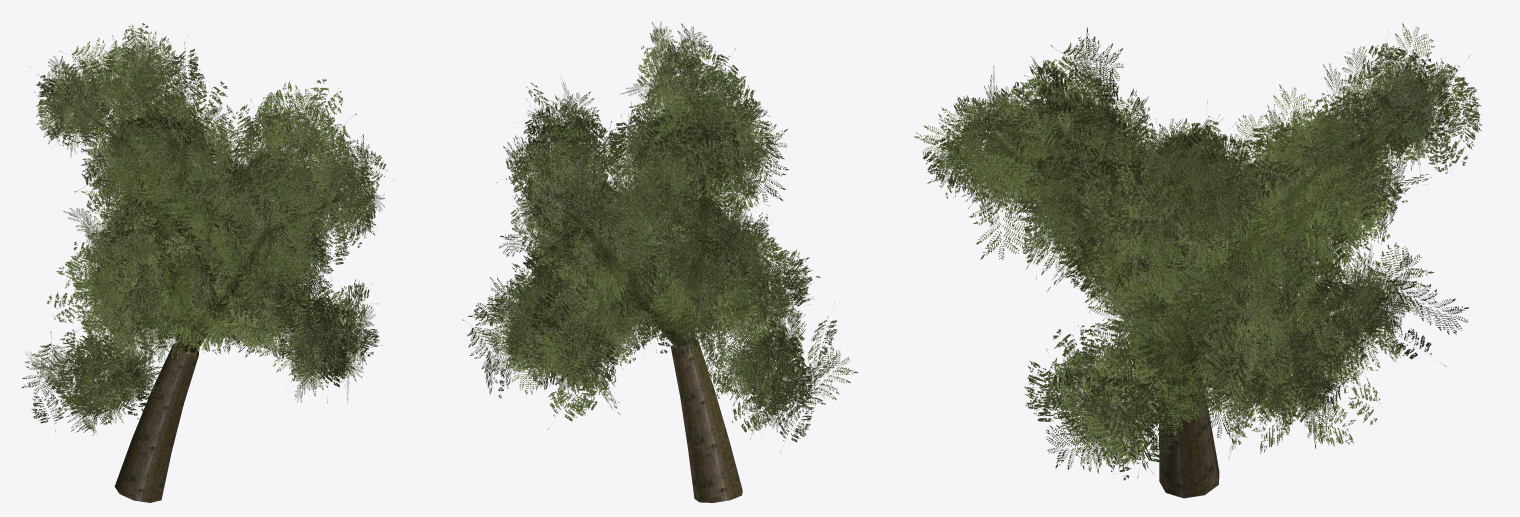
Rendered from olive_5.glb.
3 renders of one model, left to right at view 1: azimuth 30°, elevation 25°; view 2: azimuth 150°, elevation 25°; view 3: azimuth 270°, elevation 25°, orthographic. The views are drawn at different scales.
Visible parts, largest first — view 1: olive; view 2: olive; view 3: olive.
Part boxes in pixels (x1,y1,x2,y2): olive: (21,23,394,502); olive: (462,22,858,502); olive: (914,23,1482,498).
Size of the model in its own units: 6.88 by 7.41 by 8.25.
Materials: 2 (2 with a texture image).
